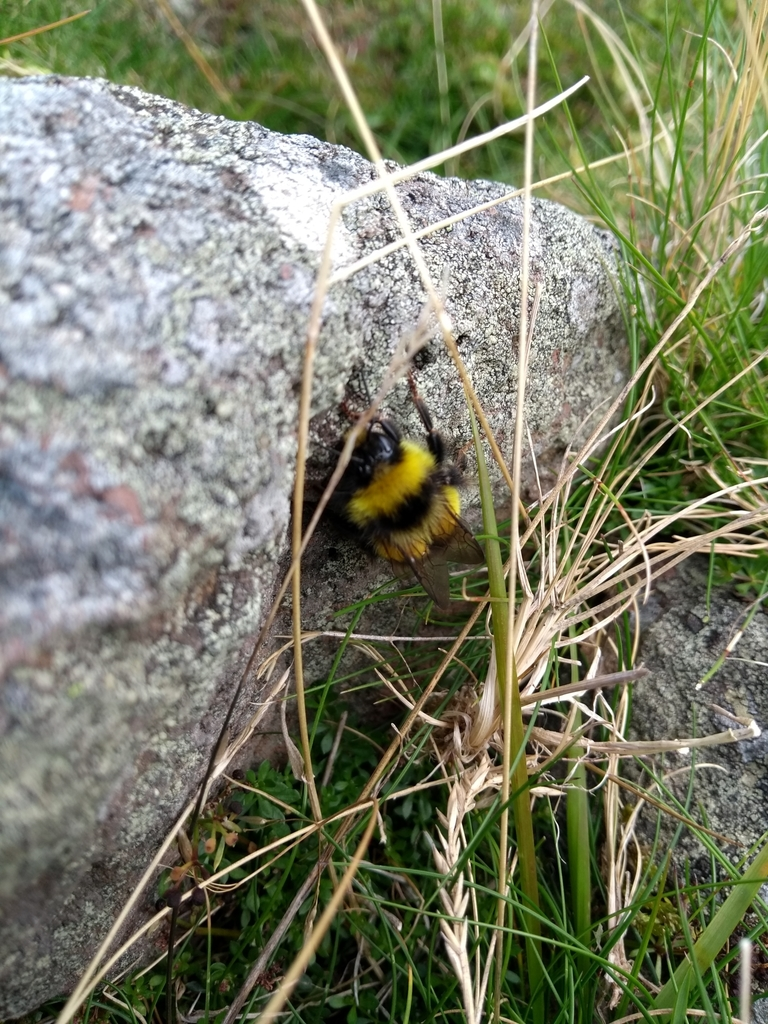bumblebee: (291, 377, 488, 607)
